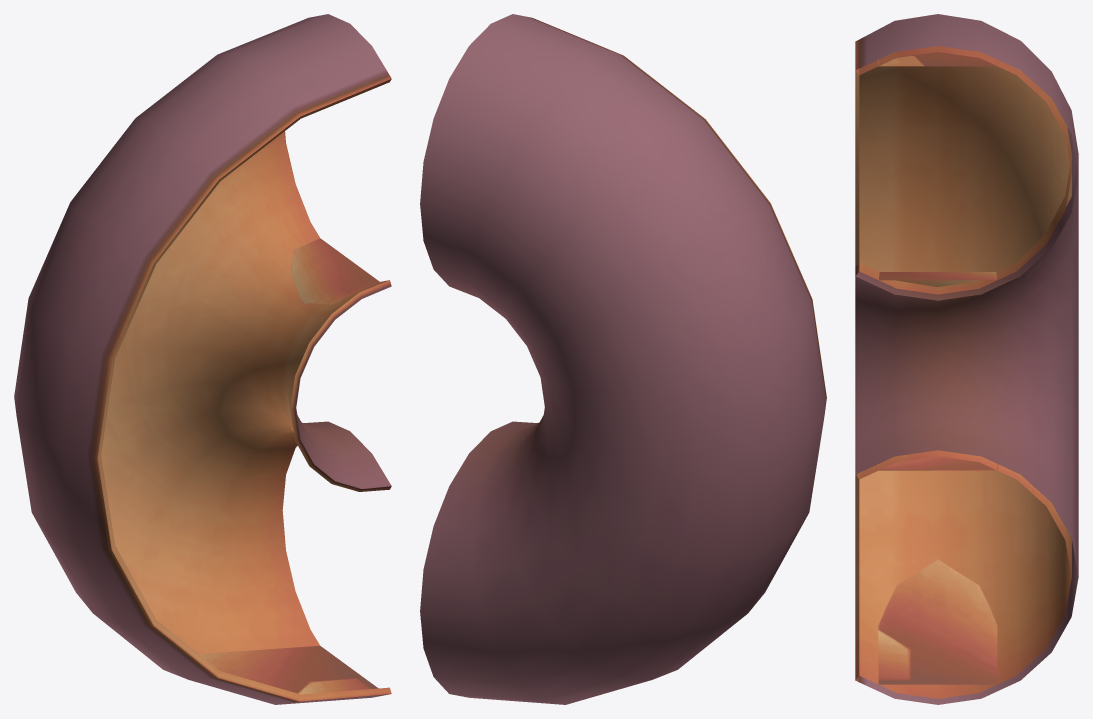
File: openPipe_C 1.fbx
3 views of the same model, side by side, from view 1: azimuth 30°, elevation 25°; view 2: azimuth 150°, elevation 25°; view 3: azimuth 270°, elevation 25° (orthographic).
Visible parts, largest first — view 1: openPipe_C, openPipe_C_colFloor01, openPipe_C_colFloor02; view 2: openPipe_C; view 3: openPipe_C, openPipe_C_colFloor01, openPipe_C_colFloor02, openPipe_C_colFloor04, openPipe_C_colFloor03.
Part boxes in pixels (x1=…): openPipe_C: x1=14, y1=14, x2=391, y2=704; openPipe_C_colFloor01: x1=199, y1=645, x2=378, y2=694; openPipe_C_colFloor02: x1=291, y1=238, x2=379, y2=304; openPipe_C: x1=420, y1=14, x2=826, y2=704; openPipe_C: x1=855, y1=14, x2=1078, y2=704; openPipe_C_colFloor01: x1=878, y1=559, x2=997, y2=684; openPipe_C_colFloor02: x1=879, y1=272, x2=997, y2=286; openPipe_C_colFloor04: x1=878, y1=52, x2=997, y2=66; openPipe_C_colFloor03: x1=878, y1=456, x2=997, y2=470.
Size of the model in its own units: 3.81 by 7.61 by 2.33.
1 material, 1 textured.
